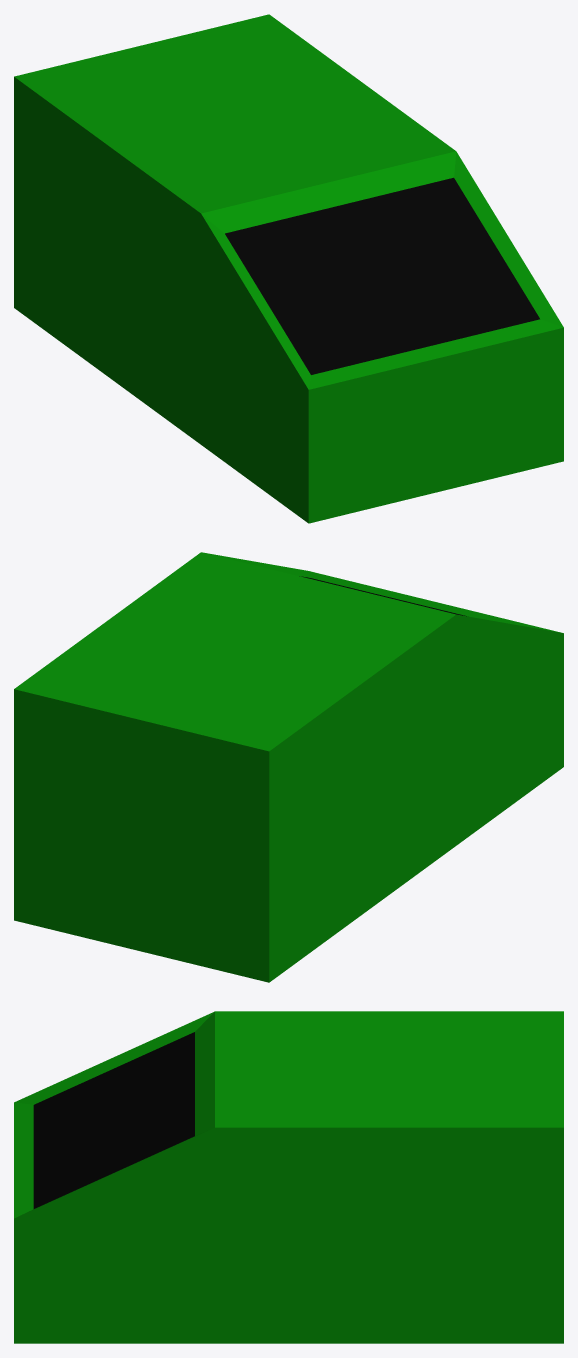
File: body.obj
3 renders of one model, top to bottom at view 1: azimuth 30°, elevation 25°; view 2: azimuth 150°, elevation 25°; view 3: azimuth 270°, elevation 25°, orthographic. The views are drawn at different scales.
Parts seen in each view (by area): view 1: Cube; view 2: Cube; view 3: Cube.
Boxes of the visible parts, left/top/right/bottom form: Cube: left=14, top=14, right=563, bottom=523; Cube: left=14, top=552, right=563, bottom=982; Cube: left=14, top=1011, right=563, bottom=1343.
Size of the model in its own units: 1 by 0.866 by 2.
